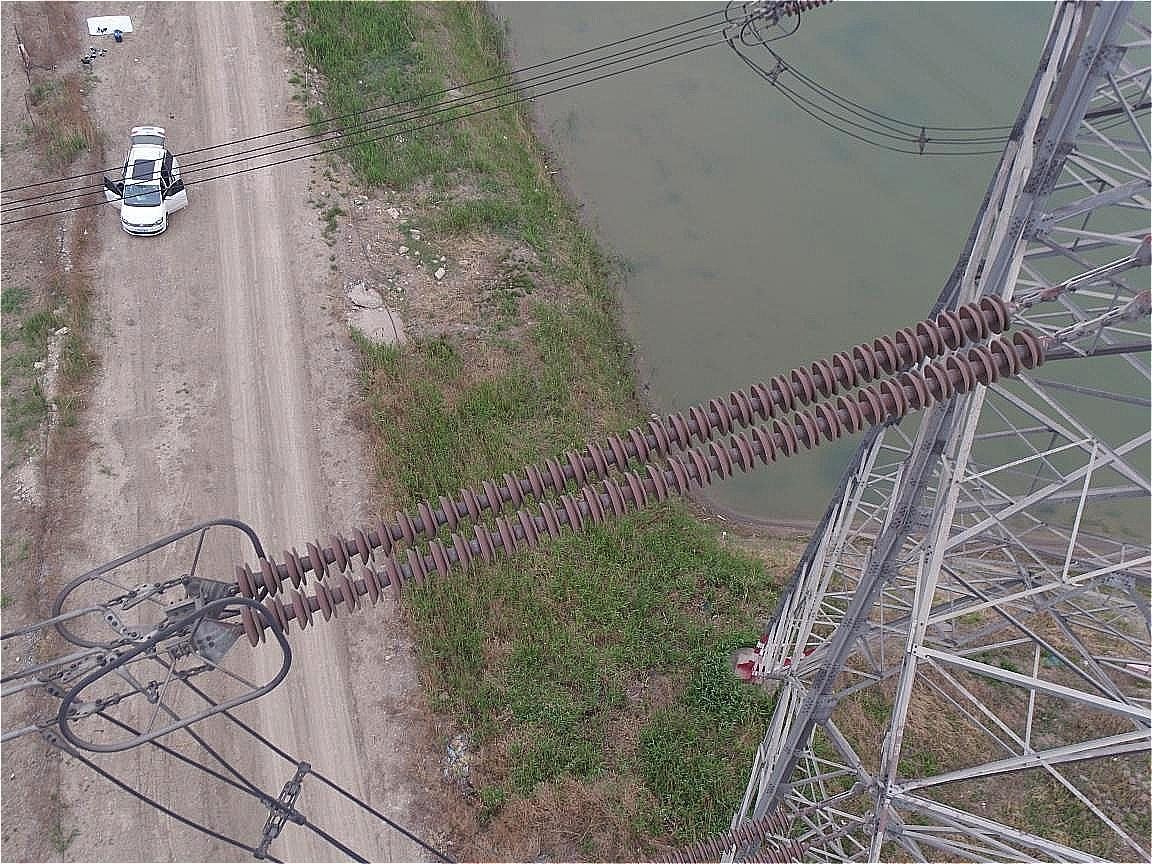insultor2: (204, 246, 1060, 660)
